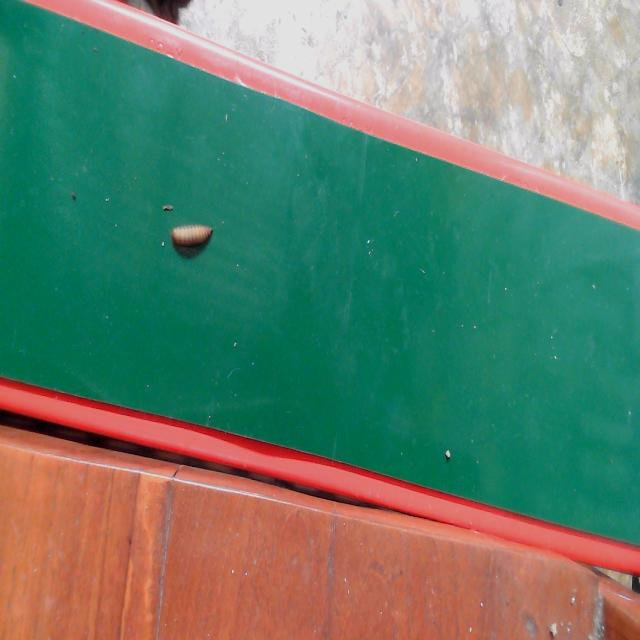Maggot: (169, 222, 215, 261)
